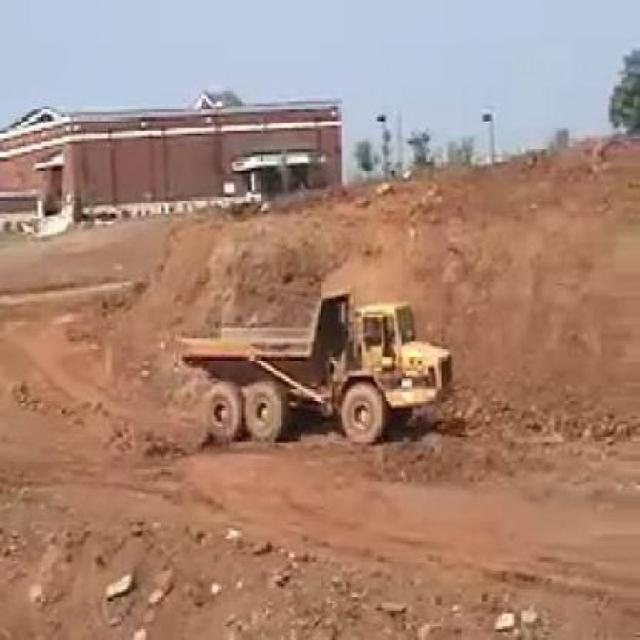dump_truck: (166, 272, 457, 456)
